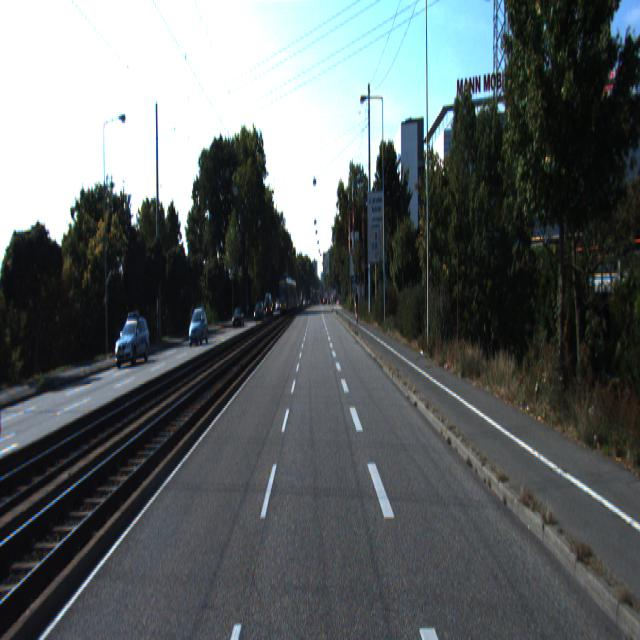Car: (114, 313, 151, 370), (186, 306, 208, 348)
